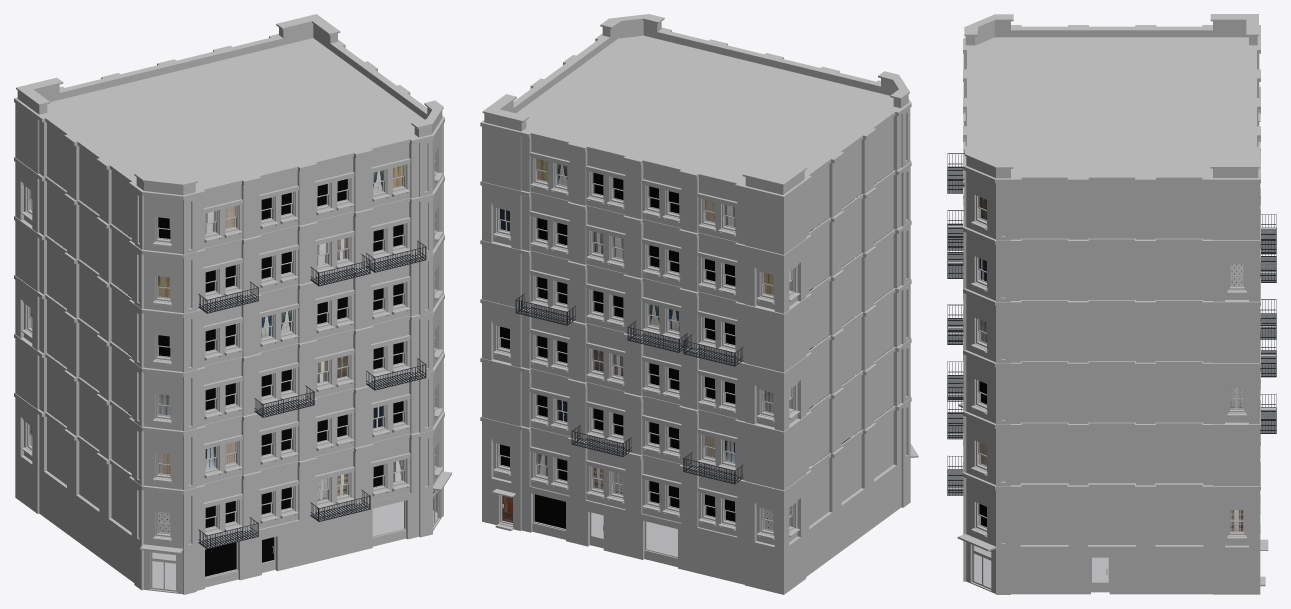
Rendered from Building06_B.fbx.
3 renders of one model, left to right at view 1: azimuth 30°, elevation 25°; view 2: azimuth 150°, elevation 25°; view 3: azimuth 270°, elevation 25°, orthographic. The views are drawn at different scales.
Parts seen in each view (by area): view 1: Building06_B; view 2: Building06_B; view 3: Building06_B.
Part boxes in pixels (bbox=[...]): Building06_B: bbox=[14, 14, 451, 594]; Building06_B: bbox=[480, 14, 918, 594]; Building06_B: bbox=[947, 14, 1276, 594].
Bounding box in the file's own units: 2508 × 3155 × 2200.
